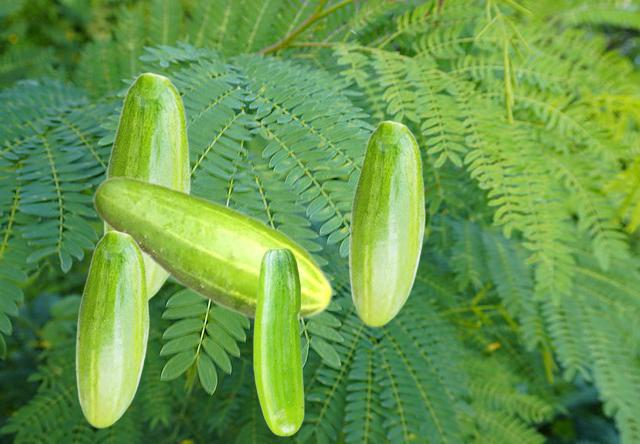cucumber: (92, 175, 333, 320), (103, 72, 189, 301), (348, 120, 424, 326), (75, 230, 148, 427), (253, 247, 303, 435)
